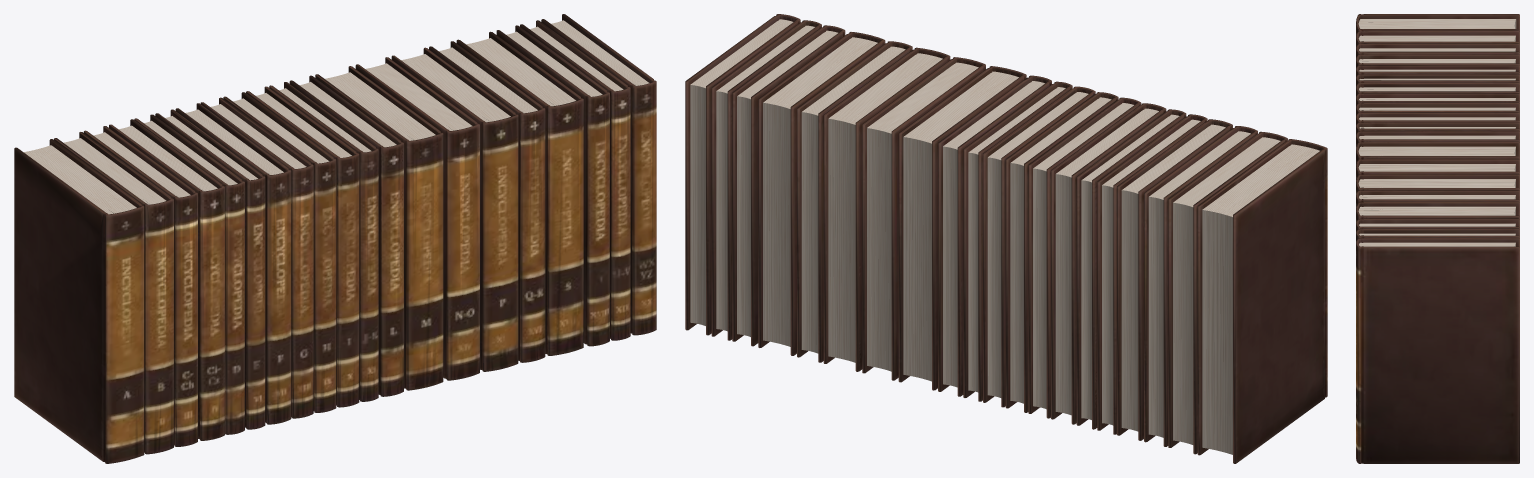
The model's file is book_encyclopedia_set_01.glb.
The picture shows the model from 3 angles, left to right: view 1: azimuth 30°, elevation 25°; view 2: azimuth 150°, elevation 25°; view 3: azimuth 270°, elevation 25°; orthographic projection. The views are drawn at different scales.
Parts seen in each view (by area): view 1: book_encyclopedia_set_01_book01, book_encyclopedia_set_01_book13, book_encyclopedia_set_01_book15, book_encyclopedia_set_01_book17, book_encyclopedia_set_01_book14, book_encyclopedia_set_01_book02, book_encyclopedia_set_01_book16, book_encyclopedia_set_01_book04, book_encyclopedia_set_01_book18, book_encyclopedia_set_01_book20, book_encyclopedia_set_01_book07, book_encyclopedia_set_01_book12 (+8 smaller); view 2: book_encyclopedia_set_01_book01, book_encyclopedia_set_01_book13, book_encyclopedia_set_01_book15, book_encyclopedia_set_01_book17, book_encyclopedia_set_01_book14, book_encyclopedia_set_01_book02, book_encyclopedia_set_01_book04, book_encyclopedia_set_01_book16, book_encyclopedia_set_01_book18, book_encyclopedia_set_01_book20, book_encyclopedia_set_01_book07, book_encyclopedia_set_01_book12 (+8 smaller); view 3: book_encyclopedia_set_01_book20, book_encyclopedia_set_01_book13, book_encyclopedia_set_01_book01, book_encyclopedia_set_01_book17, book_encyclopedia_set_01_book15, book_encyclopedia_set_01_book14, book_encyclopedia_set_01_book02, book_encyclopedia_set_01_book16, book_encyclopedia_set_01_book03, book_encyclopedia_set_01_book12, book_encyclopedia_set_01_book04, book_encyclopedia_set_01_book07 (+8 smaller).
Part boxes in pixels (x1=…): book_encyclopedia_set_01_book01: x1=14, y1=139, x2=144, y2=463; book_encyclopedia_set_01_book13: x1=315, y1=66, x2=443, y2=390; book_encyclopedia_set_01_book15: x1=391, y1=47, x2=518, y2=371; book_encyclopedia_set_01_book17: x1=456, y1=31, x2=583, y2=355; book_encyclopedia_set_01_book14: x1=355, y1=57, x2=479, y2=380; book_encyclopedia_set_01_book02: x1=54, y1=132, x2=173, y2=454; book_encyclopedia_set_01_book16: x1=429, y1=41, x2=545, y2=362; book_encyclopedia_set_01_book04: x1=109, y1=119, x2=224, y2=440; book_encyclopedia_set_01_book18: x1=496, y1=25, x2=609, y2=346; book_encyclopedia_set_01_book20: x1=541, y1=14, x2=656, y2=335; book_encyclopedia_set_01_book07: x1=175, y1=103, x2=291, y2=424; book_encyclopedia_set_01_book12: x1=289, y1=75, x2=403, y2=396; book_encyclopedia_set_01_book01: x1=1197, y1=139, x2=1327, y2=463; book_encyclopedia_set_01_book13: x1=898, y1=66, x2=1026, y2=390; book_encyclopedia_set_01_book15: x1=823, y1=47, x2=950, y2=371; book_encyclopedia_set_01_book17: x1=758, y1=32, x2=885, y2=355; book_encyclopedia_set_01_book14: x1=862, y1=57, x2=985, y2=380; book_encyclopedia_set_01_book02: x1=1168, y1=131, x2=1287, y2=454; book_encyclopedia_set_01_book04: x1=1117, y1=119, x2=1232, y2=440; book_encyclopedia_set_01_book16: x1=797, y1=41, x2=912, y2=362; book_encyclopedia_set_01_book18: x1=732, y1=25, x2=845, y2=346; book_encyclopedia_set_01_book20: x1=685, y1=14, x2=800, y2=335; book_encyclopedia_set_01_book07: x1=1051, y1=103, x2=1166, y2=424; book_encyclopedia_set_01_book12: x1=938, y1=75, x2=1051, y2=396; book_encyclopedia_set_01_book20: x1=1356, y1=238, x2=1519, y2=463; book_encyclopedia_set_01_book13: x1=1356, y1=142, x2=1519, y2=165; book_encyclopedia_set_01_book01: x1=1356, y1=14, x2=1519, y2=35; book_encyclopedia_set_01_book17: x1=1356, y1=202, x2=1519, y2=221; book_encyclopedia_set_01_book15: x1=1356, y1=174, x2=1519, y2=194; book_encyclopedia_set_01_book14: x1=1356, y1=159, x2=1519, y2=180; book_encyclopedia_set_01_book02: x1=1356, y1=30, x2=1519, y2=47; book_encyclopedia_set_01_book16: x1=1356, y1=190, x2=1519, y2=222; book_encyclopedia_set_01_book03: x1=1356, y1=43, x2=1519, y2=58; book_encyclopedia_set_01_book12: x1=1356, y1=131, x2=1519, y2=149; book_encyclopedia_set_01_book04: x1=1356, y1=54, x2=1519, y2=69; book_encyclopedia_set_01_book07: x1=1356, y1=82, x2=1519, y2=96.
Bounding box in the file's own units: 0.5513 × 0.2374 × 0.1631.
Materials: 2 (2 with a texture image).
